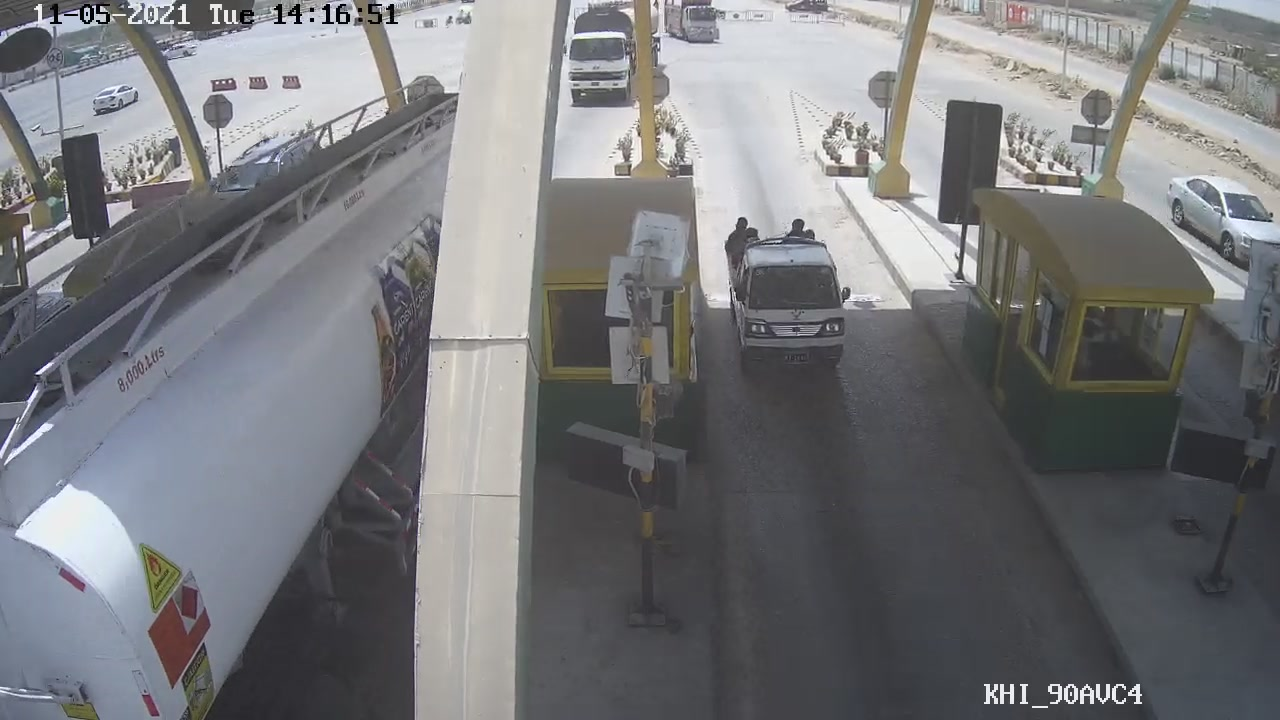F1: (720, 220, 871, 376)
